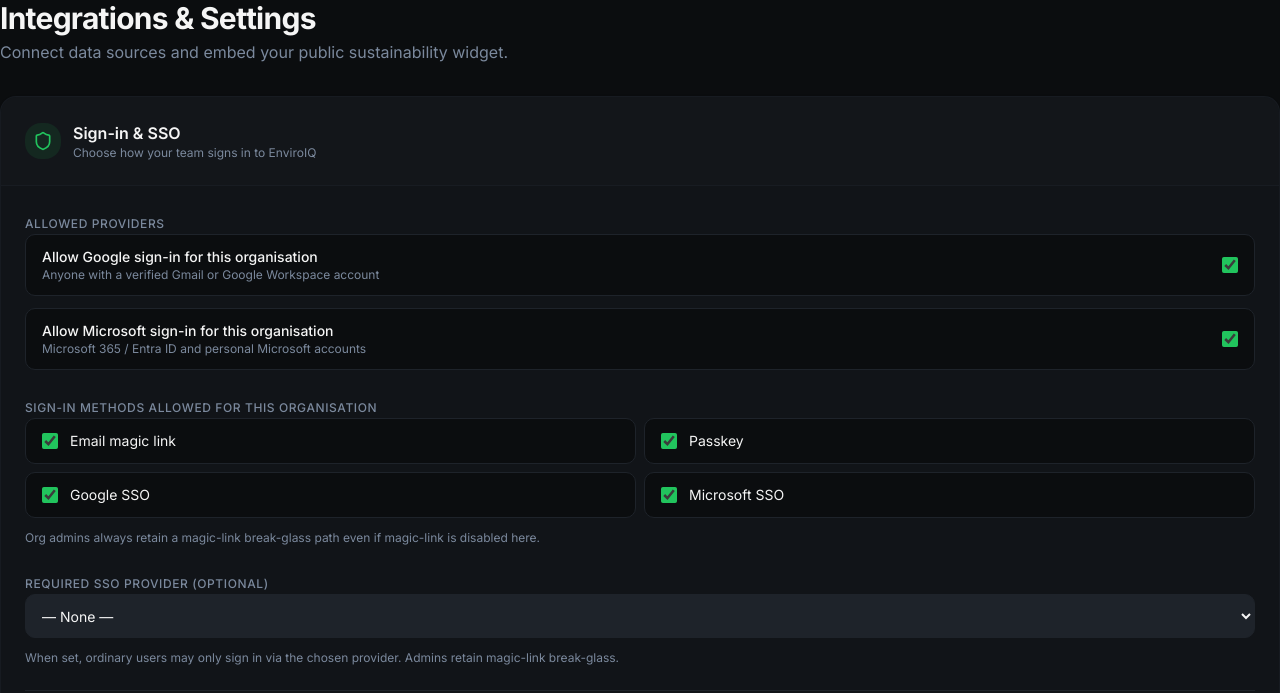
Test: Settings → Sign-in & SSO history › shows a new entry in the history block immediately after the admin saves a real policy change
The image size is (1280, 693).
What coordinates should you click on to do the following:
click the checkbox with test id "checkbox-google-sso-enabled"
I would click on:
 (1230, 265)
Its box is [1222,257,1238,273].
(page scrolled)
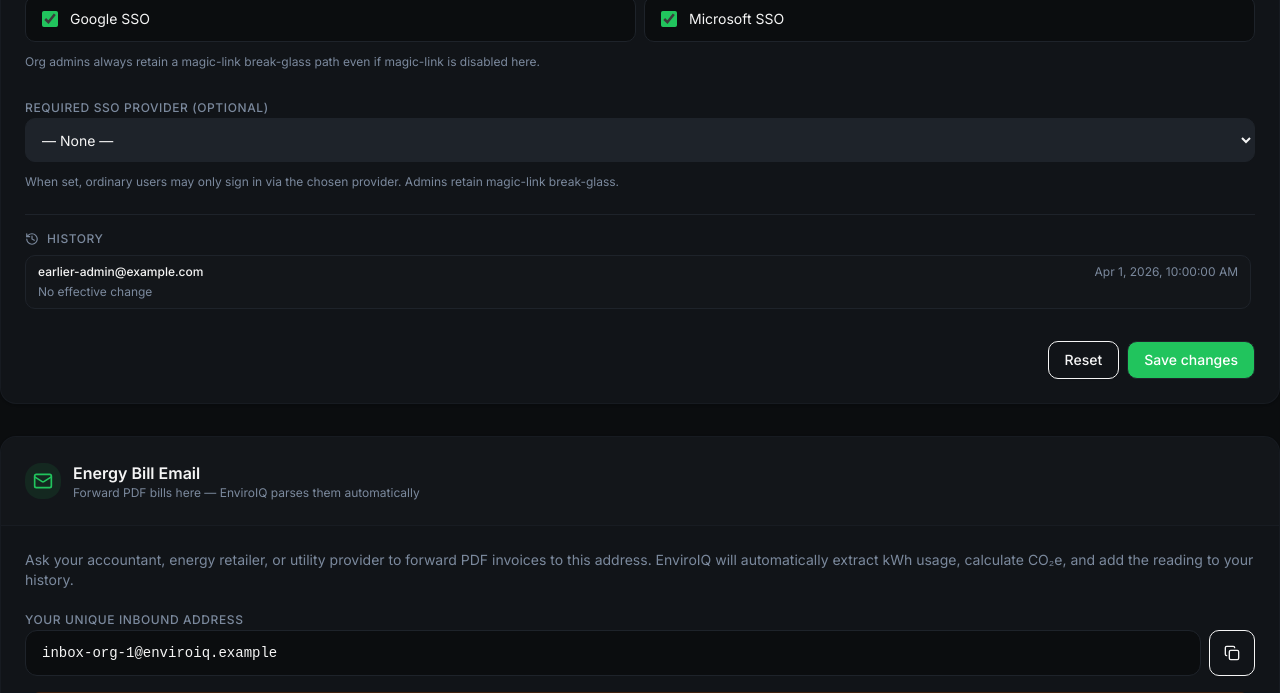
Check: the button with test id "button-save-sso-policy" is enabled
What coordinates should you click on to do the following:
click the button with test id "button-save-sso-policy"
I would click on:
 (1191, 360)
Its box is [1127,341,1255,379].
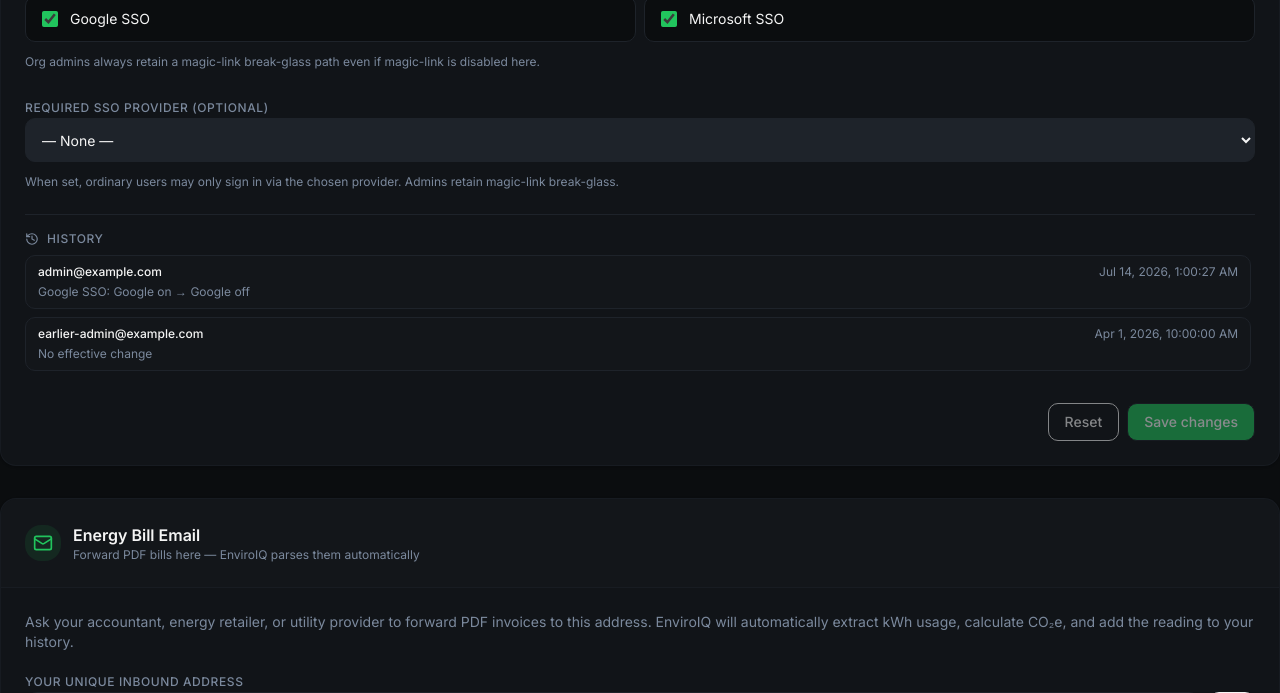
Check: the list item with test id "sso-policy-history-entry-row-new-1" is shown, box [25,255,1251,309]
Check: the list item "Google SSO: Google on → Google off" is shown, box [38,284,250,299]
